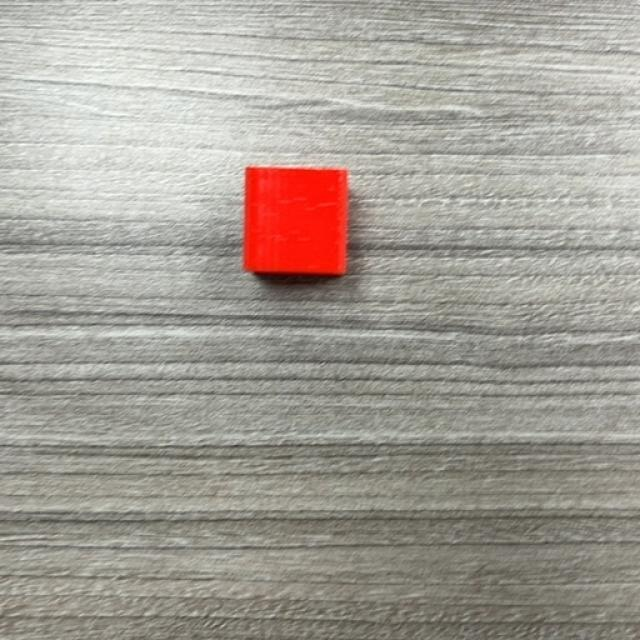Rojo: (244, 165, 349, 279)
